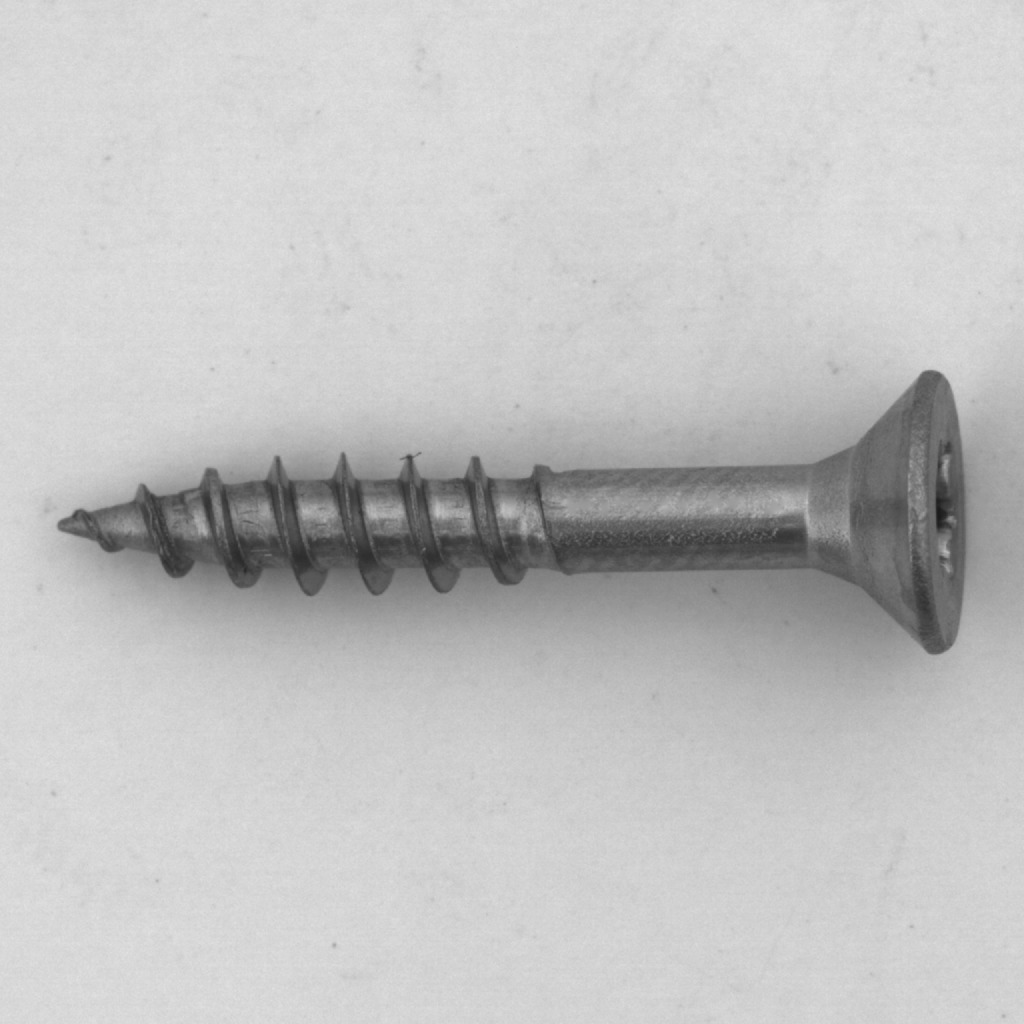good: (45, 356, 996, 671)
